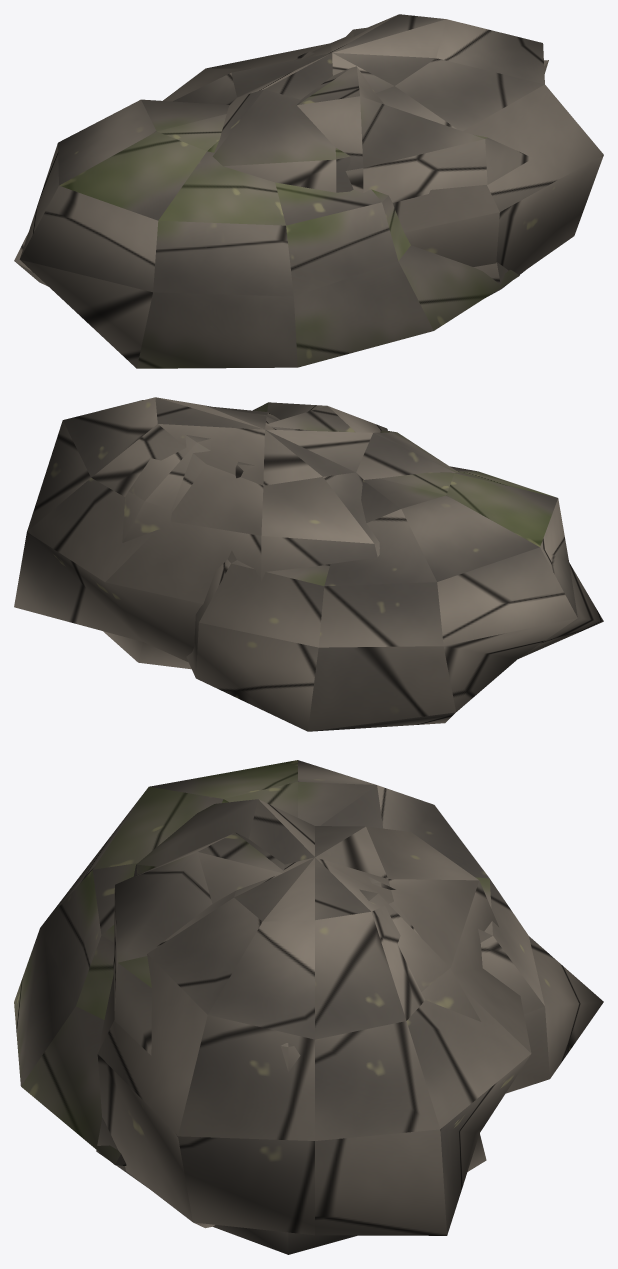
File: rock_outcrop.gltf
The picture shows the model from 3 angles, top to bottom: view 1: azimuth 30°, elevation 25°; view 2: azimuth 150°, elevation 25°; view 3: azimuth 270°, elevation 25°; orthographic projection. The views are drawn at different scales.
Visible parts, largest first — view 1: rock_outcrop_mesh; view 2: rock_outcrop_mesh; view 3: rock_outcrop_mesh.
Part boxes in pixels (x1,y1,x2,y2): rock_outcrop_mesh: (14,14,603,368); rock_outcrop_mesh: (14,397,603,731); rock_outcrop_mesh: (14,760,603,1254).
Size of what is drawn, in the model's own units: 3.28 by 1.25 by 2.46.
1 material, 1 textured.
